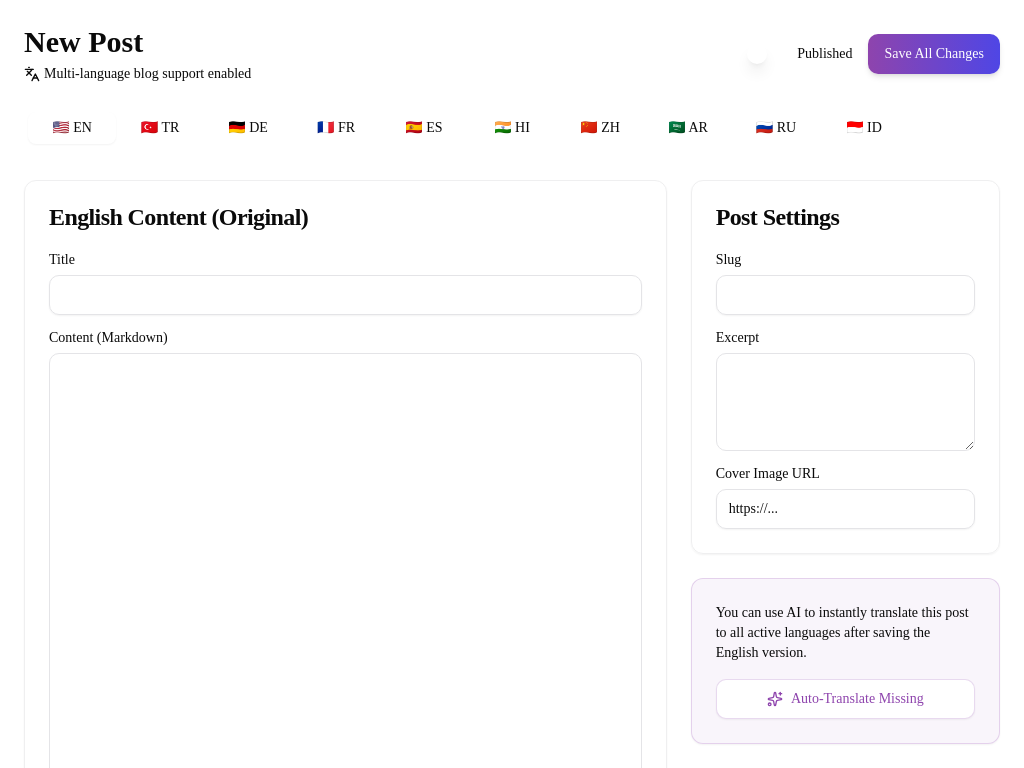
Test case: PostForm Component › auto-generates slug from title in new mode
This screenshot has width=1024, height=768.
Type "Hello World" into the field labelled "Title".
click(345, 295); type("Hello World")  # box left=49, top=275, right=642, bottom=315
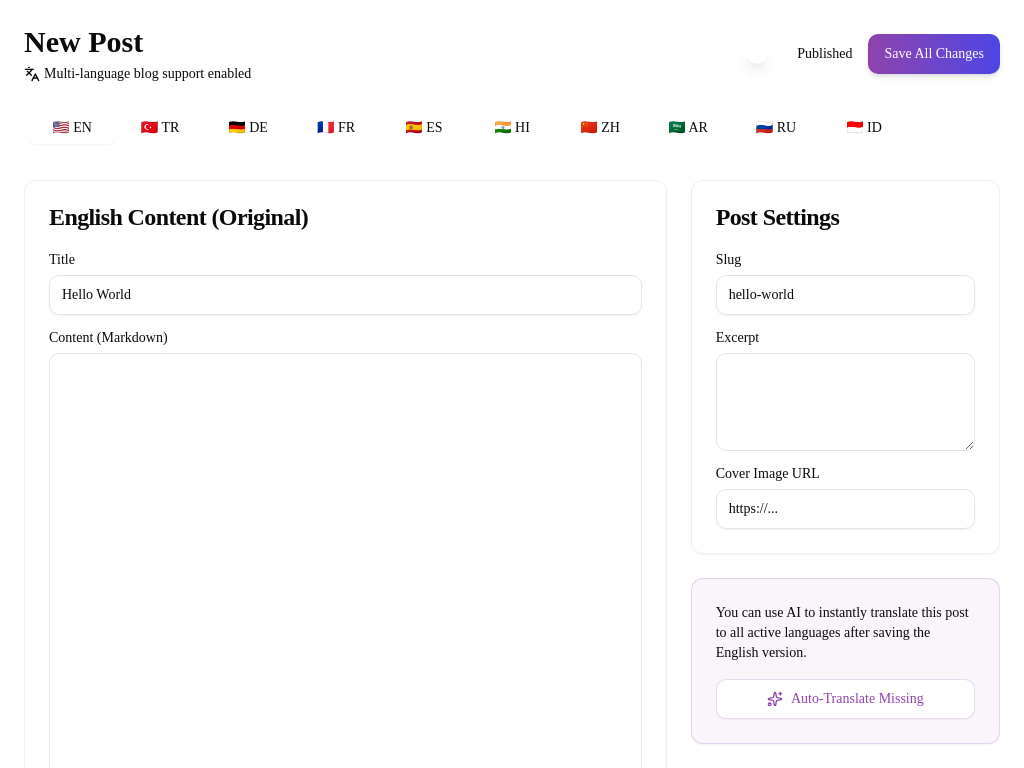
Now the field labelled "Slug" holds "hello-world", box left=716, top=275, right=975, bottom=315
